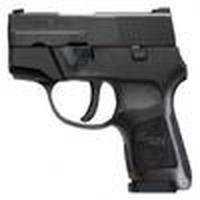gun: (6, 7, 195, 194)
